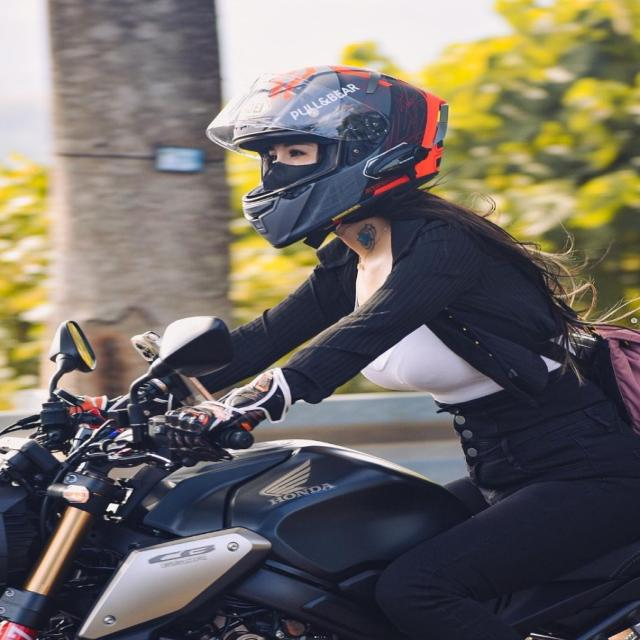helmet: (200, 59, 454, 255)
